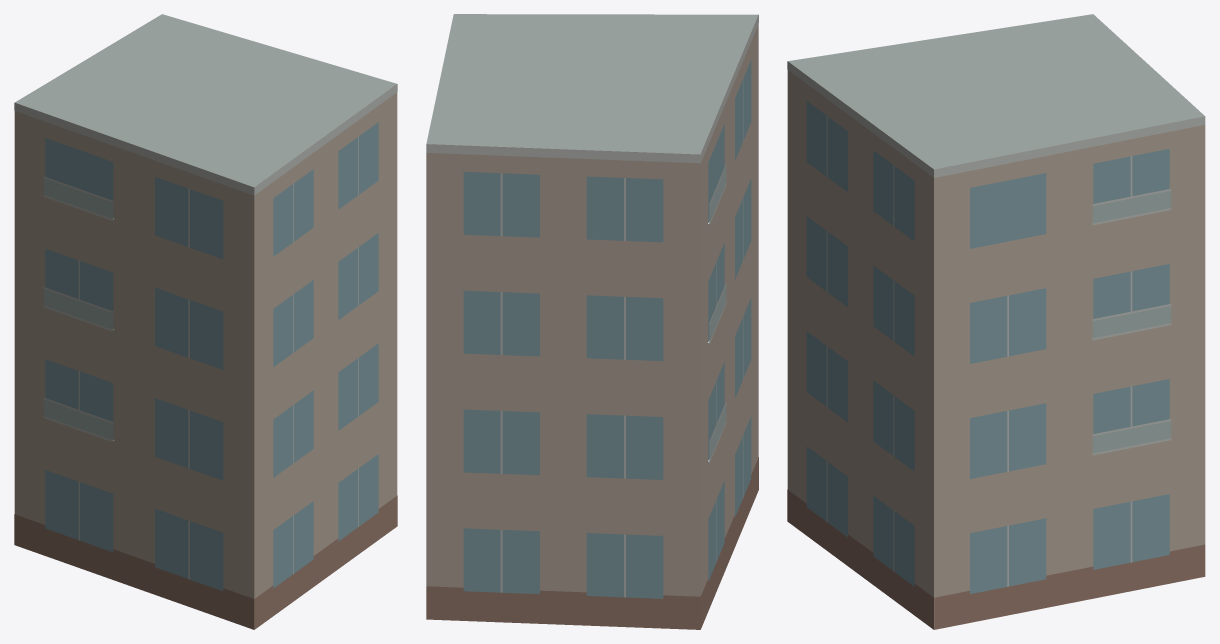
Rendered from survey-upis-32904125.glb.
3 views of the same model, side by side, from view 1: azimuth 30°, elevation 25°; view 2: azimuth 150°, elevation 25°; view 3: azimuth 270°, elevation 25° (orthographic). The views are drawn at different scales.
Visible parts, largest first — view 1: survey-upis-32904125.tmp; view 2: survey-upis-32904125.tmp; view 3: survey-upis-32904125.tmp.
Boxes of the visible parts, x1,y1,x2,y2 form: survey-upis-32904125.tmp: (14,14,397,629); survey-upis-32904125.tmp: (426,14,758,629); survey-upis-32904125.tmp: (787,14,1205,629).
Size of the model in its own units: 9.57 by 13.2 by 10.87.
